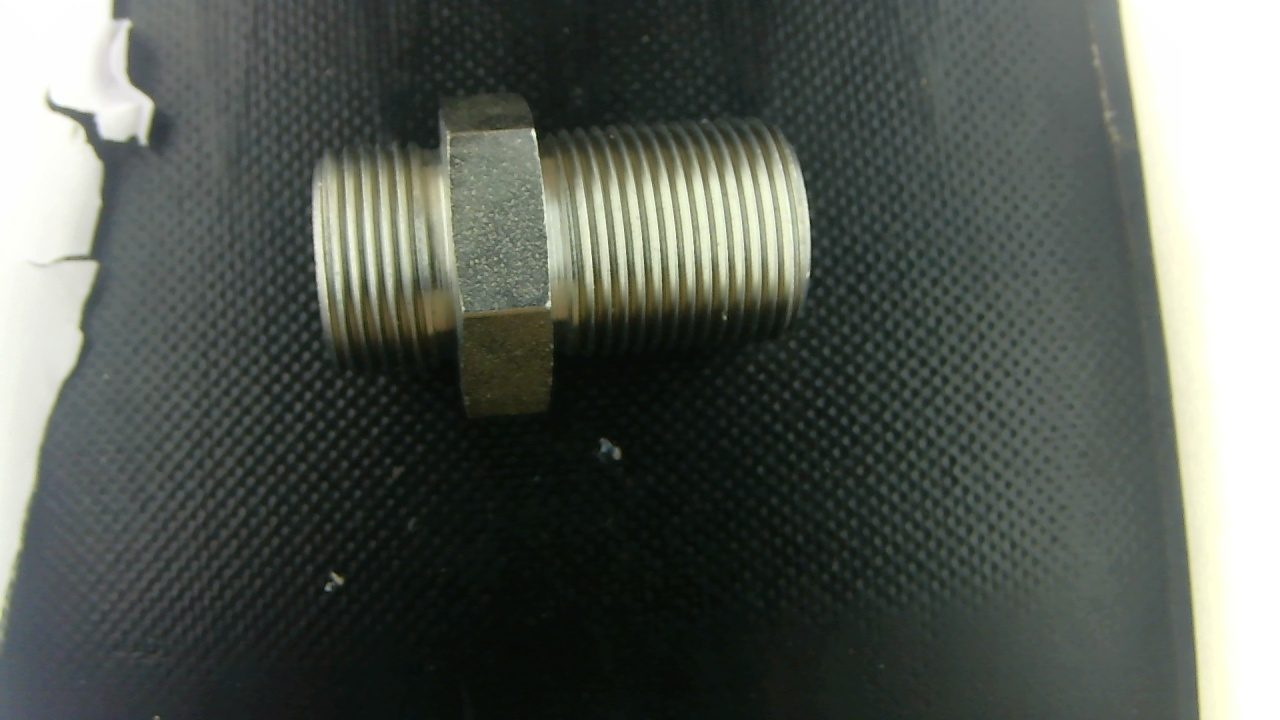okay_adapter: (312, 94, 809, 416)
